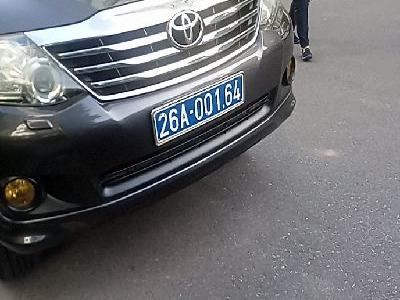lisence: (150, 71, 246, 147)
